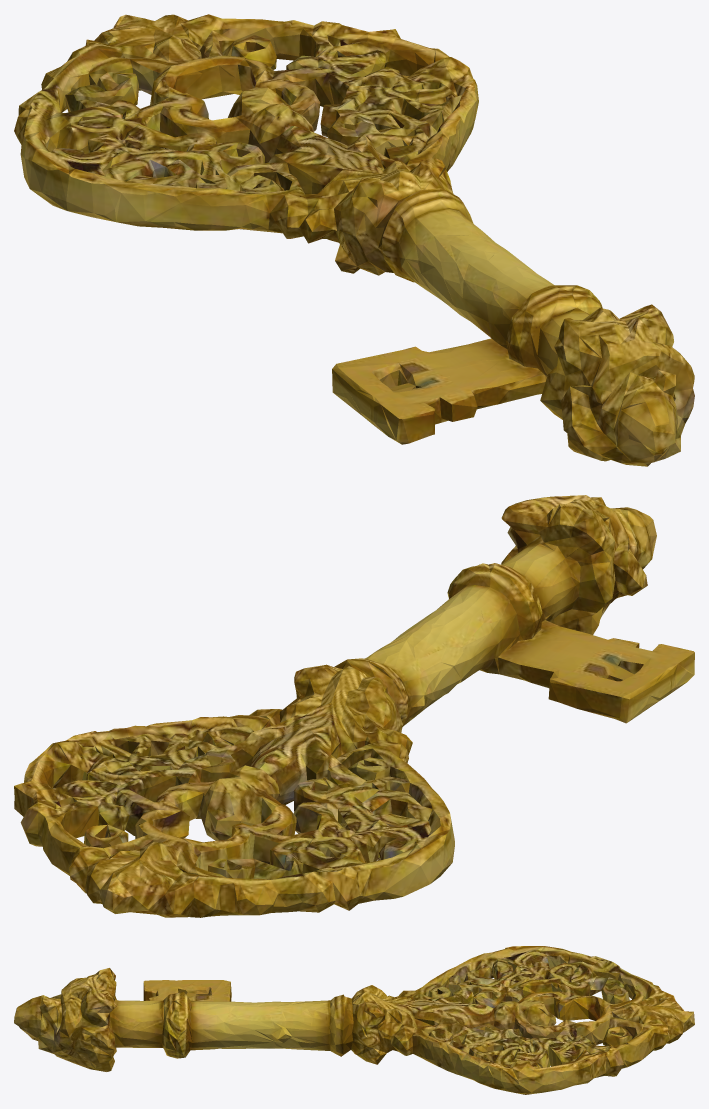
File: key.glb
3 views of the same model, one above another, from view 1: azimuth 30°, elevation 25°; view 2: azimuth 150°, elevation 25°; view 3: azimuth 270°, elevation 25° (orthographic). The views are drawn at different scales.
Parts seen in each view (by area): view 1: key; view 2: key; view 3: key.
Boxes of the visible parts, bbox=[...] form: key: bbox=[14, 14, 694, 466]; key: bbox=[14, 495, 694, 917]; key: bbox=[14, 946, 694, 1094].
Bounding box in the file's own units: 0.8783 × 0.2844 × 1.99.
Materials: 1 (1 with a texture image).
